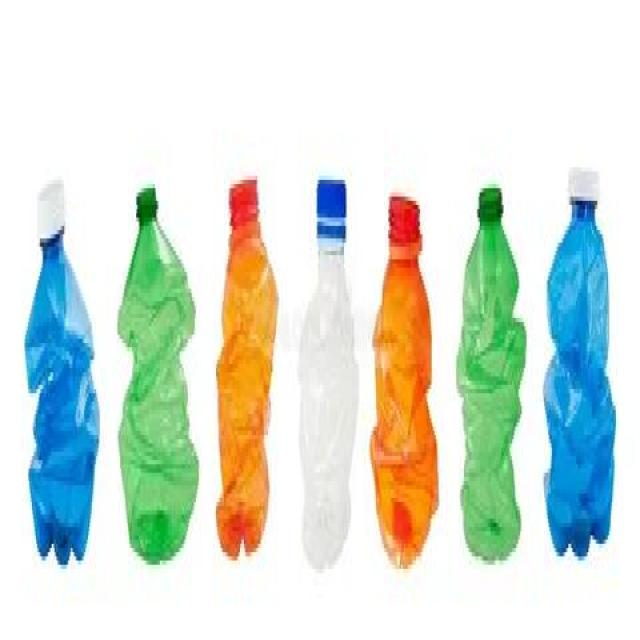blue: (541, 201, 616, 557), (26, 230, 100, 567)
green: (117, 180, 199, 568), (455, 191, 527, 562)
